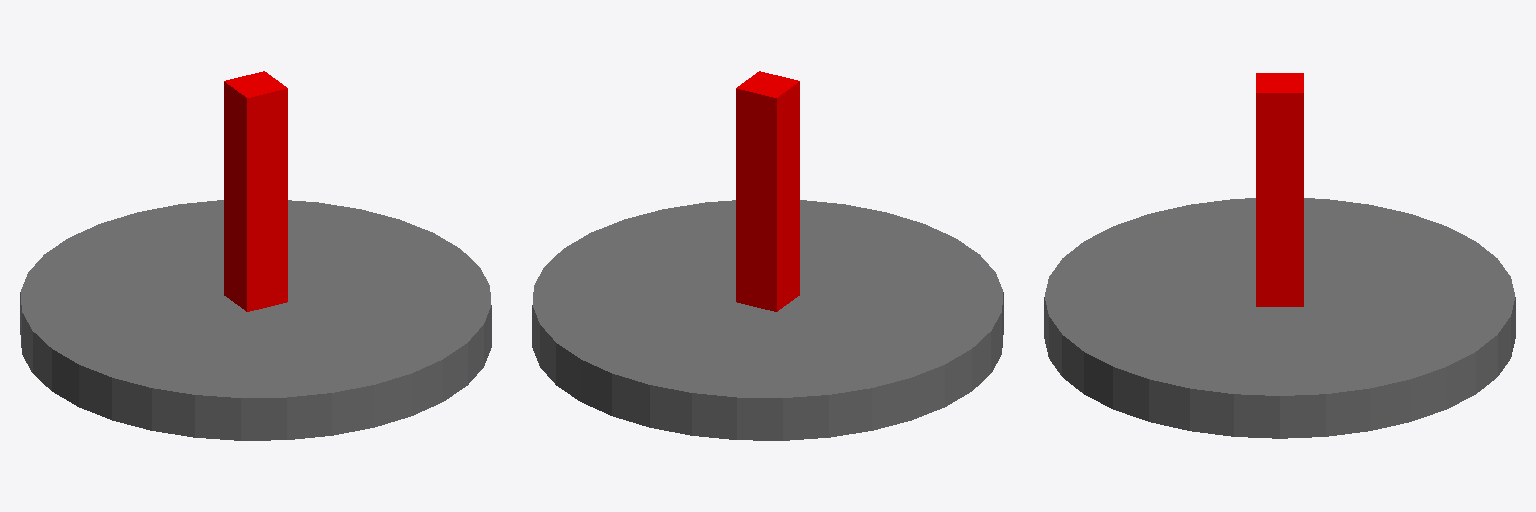
URDF robot description (two_links):
<?xml version="1.0"?>
<robot name="two_links">
  <!-- Robot with two links connected by a joint -->
  <link name="base_link">
    <visual>
      <origin xyz="0 0 0" rpy="0 0 0"/>
      <geometry>
        <cylinder radius="0.5" length="0.1"/>
      </geometry>
      <material name="gray">
        <color rgba="0.5 0.5 0.5 1"/>
      </material>
    </visual>
    <collision>
      <origin xyz="0 0 0" rpy="0 0 0"/>
      <geometry>
        <cylinder radius="0.5" length="0.1"/>
      </geometry>
    </collision>
    <inertial>
      <mass value="2.0"/>
      <inertia ixx="0.083333" ixy="0" ixz="0" iyy="0.083333" iyz="0" izz="0.25"/>
    </inertial>
  </link>

  <link name="arm_link">
    <visual>
      <origin xyz="0 0 0.25" rpy="0 0 0"/>
      <geometry>
        <box size="0.1 0.1 0.5"/>
      </geometry>
      <material name="red">
        <color rgba="1 0 0 1"/>
      </material>
    </visual>
    <collision>
      <origin xyz="0 0 0.25" rpy="0 0 0"/>
      <geometry>
        <box size="0.1 0.1 0.5"/>
      </geometry>
    </collision>
    <inertial>
      <mass value="1.0"/>
      <inertia ixx="0.020833" ixy="0" ixz="0" iyy="0.020833" iyz="0" izz="0.001667"/>
    </inertial>
  </link>

  <joint name="base_to_arm" type="revolute">
    <parent link="base_link"/>
    <child link="arm_link"/>
    <origin xyz="0 0 0.05" rpy="0 0 0"/>
    <axis xyz="0 0 1"/>
    <limit lower="-3.14159" upper="3.14159" effort="10" velocity="1"/>
  </joint>
</robot>

--- Render facts (derived) ---
Views: 3 orthographic renders of the robot side by side, from view 1: azimuth 30°, elevation 25°; view 2: azimuth 150°, elevation 25°; view 3: azimuth 270°, elevation 25°.
Model two_links with 2 links and 1 joints (1 revolute), rooted at base_link, posed every joint at zero.
Visible links, largest first — view 1: base_link, arm_link; view 2: base_link, arm_link; view 3: base_link, arm_link.
Boxes of the visible links, x1,y1,x2,y2 form: base_link: (20, 200, 491, 440); arm_link: (224, 71, 287, 311); base_link: (532, 200, 1003, 440); arm_link: (736, 71, 799, 311); base_link: (1044, 198, 1515, 438); arm_link: (1256, 73, 1303, 306).
Size in the robot's own frame: 1 by 1 by 0.6 metres.
Geometry: primitives only (box / cylinder / sphere), no mesh files.